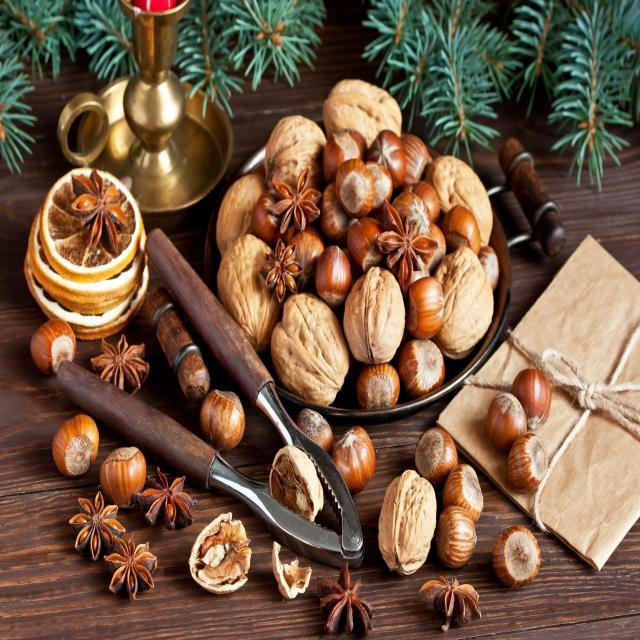Frutta secca: (422, 436, 488, 563), (276, 290, 350, 393), (493, 382, 553, 490), (379, 472, 435, 569), (343, 273, 400, 353), (337, 160, 375, 212)
